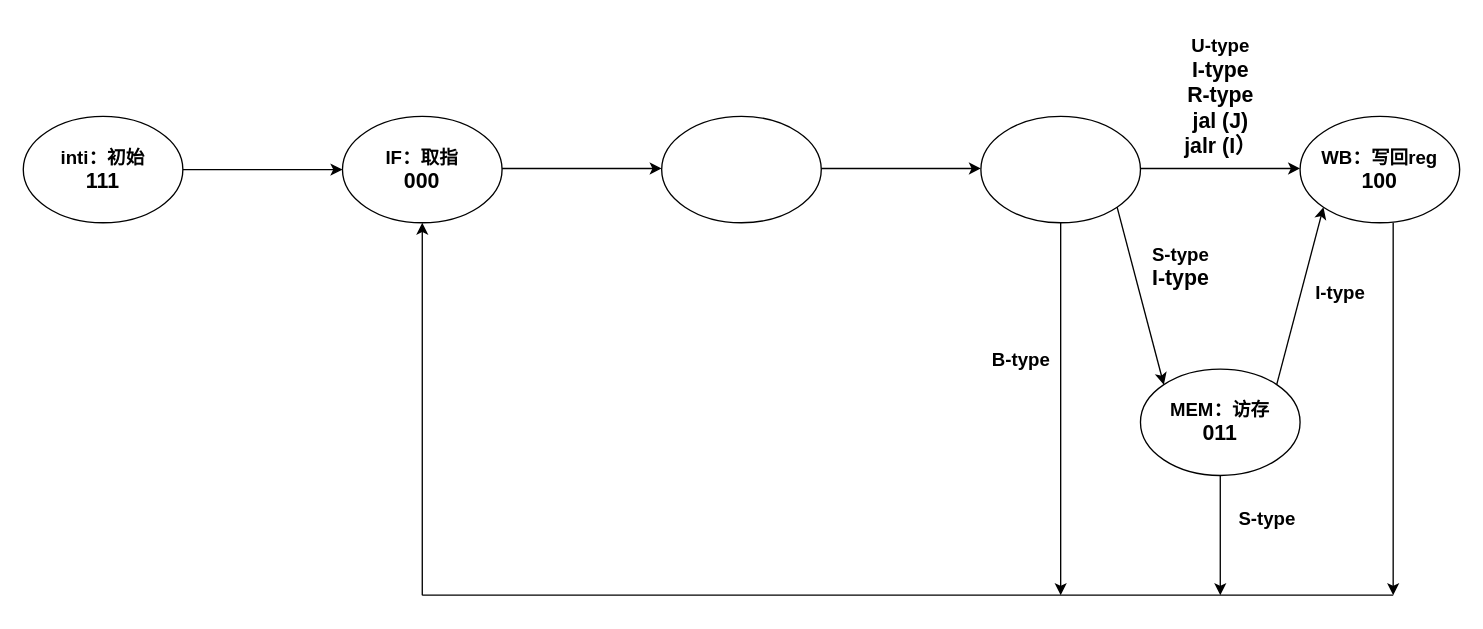
Image size: 1483x629. Some labels were removed from this diagram. The shapes that lost their labels are listed below. From the top down, each one's centre as x and y in pixels, then its label:
pixel 740 169: ID：译码 001
pixel 1060 169: EXE：执行 010
